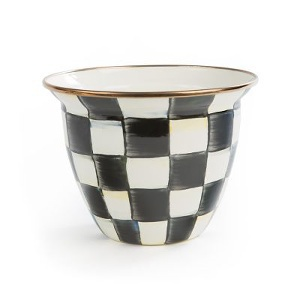flowerpot: (40, 62, 268, 250)
